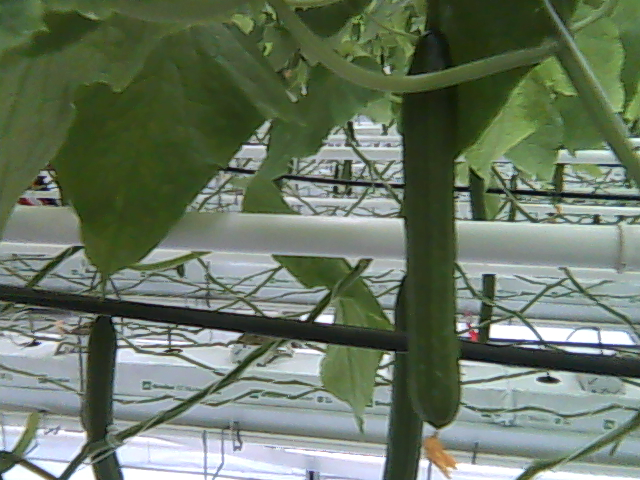concombre: (396, 18, 462, 477)
